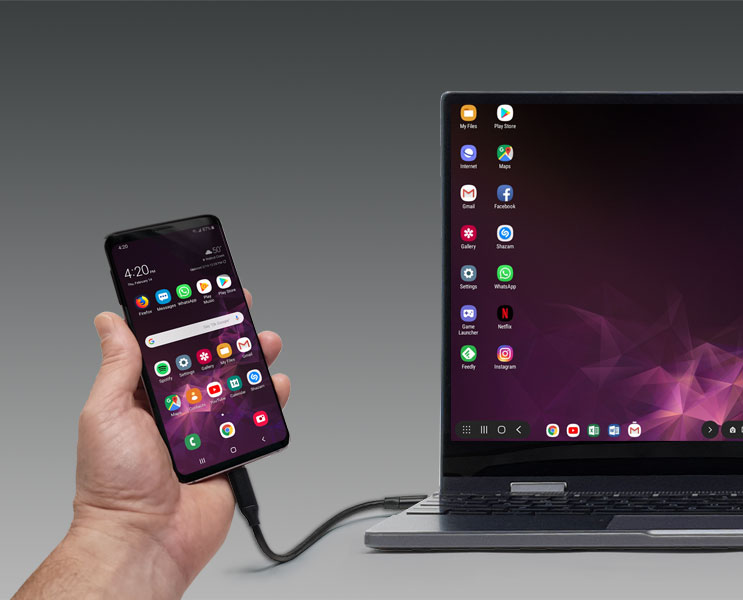Cell Phone: (95, 209, 300, 491)
